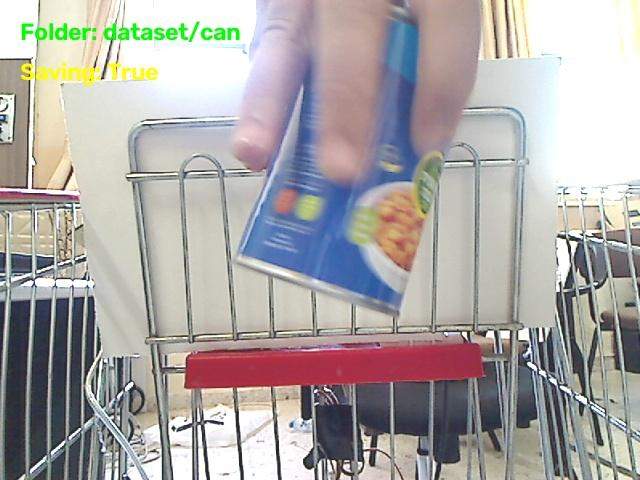can: (236, 7, 442, 314)
